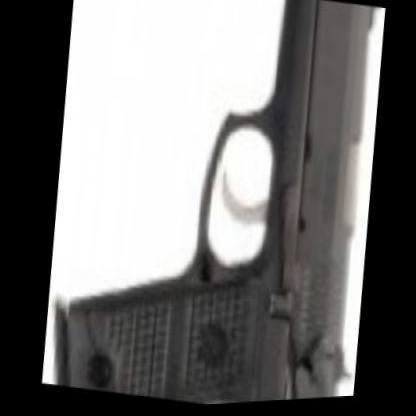pistol: (48, 0, 393, 412)
